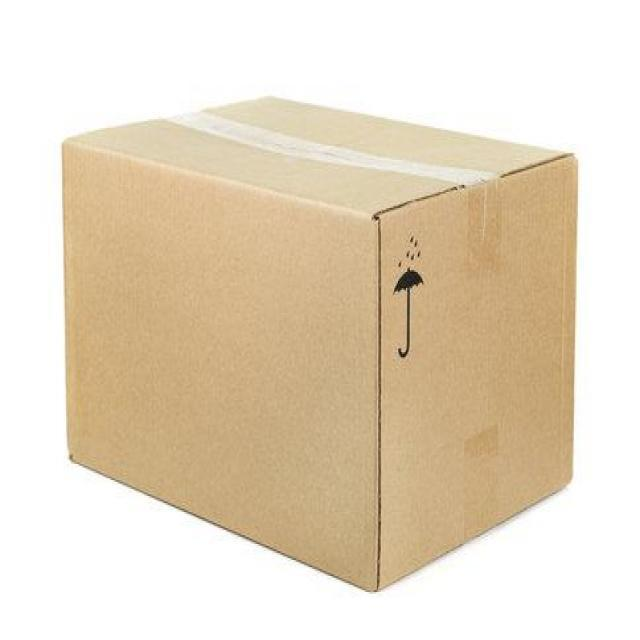box: (57, 80, 585, 607)
